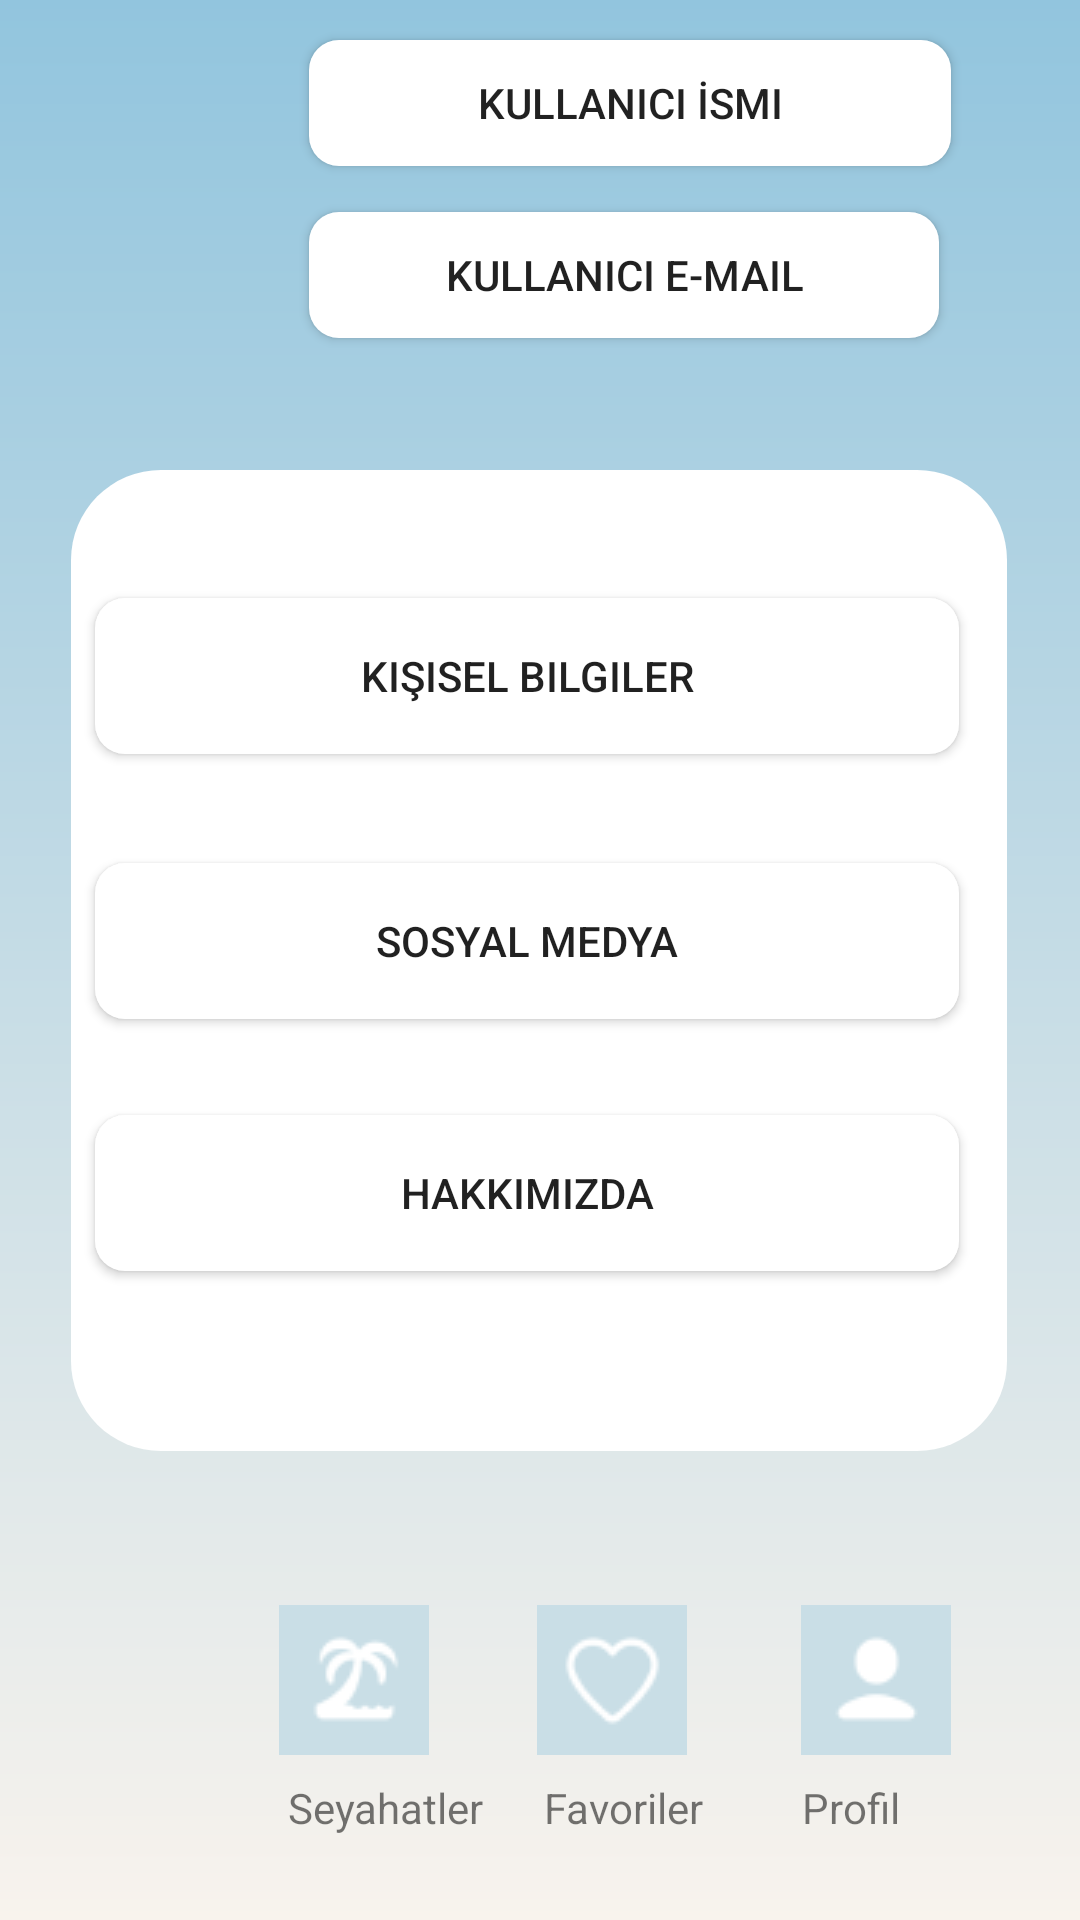

Named icons in this screenshot (1080×1920) and their centers, [x,y]:
beach: [354,1680]
user: [876,1680]
